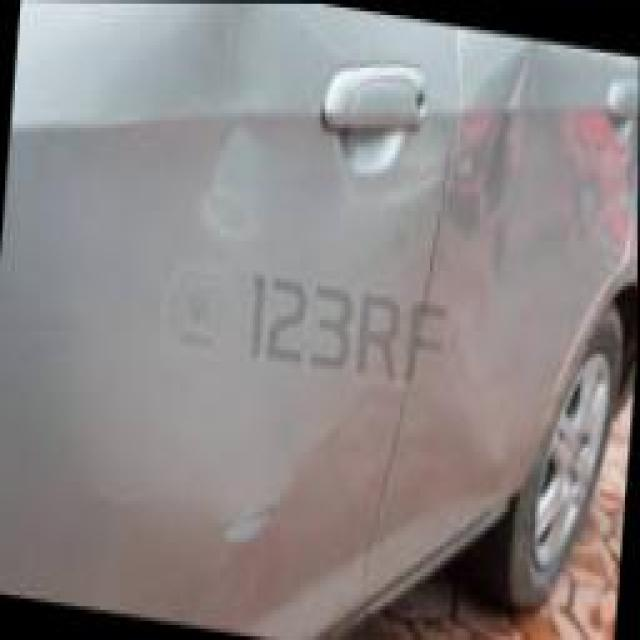Door: (8, 68, 409, 591), (415, 31, 616, 395)
